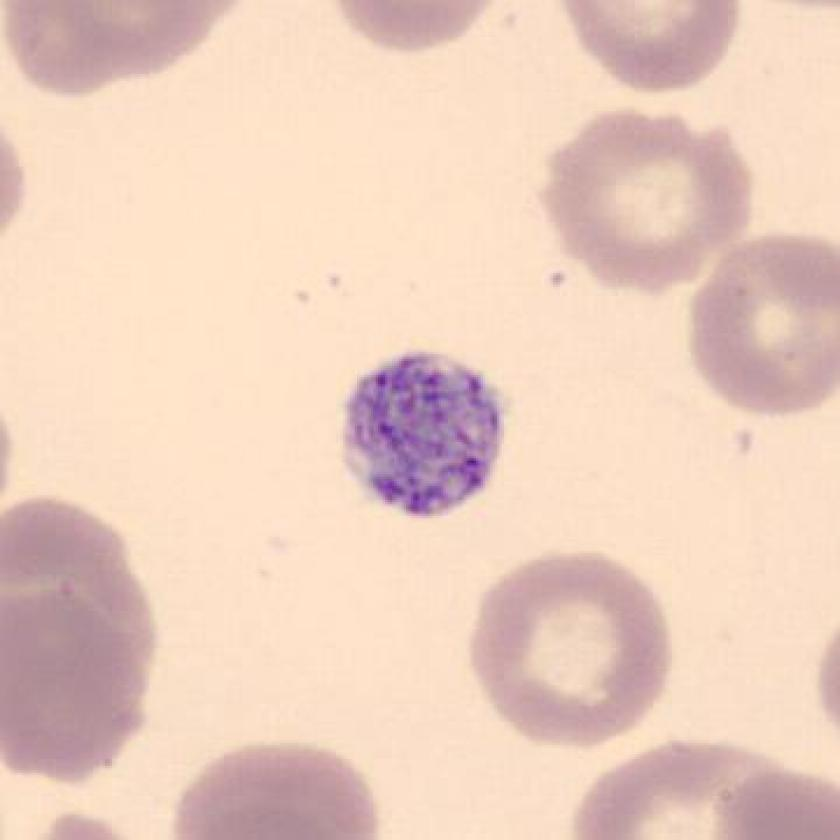platelets: (332, 339, 517, 533)
